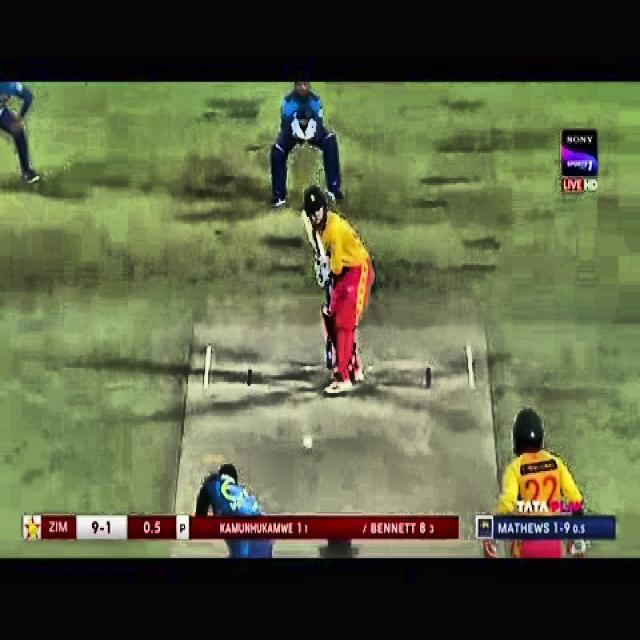Left-stump: (327, 332, 333, 373)
